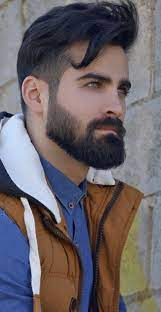b.y: (84, 117, 127, 170)
